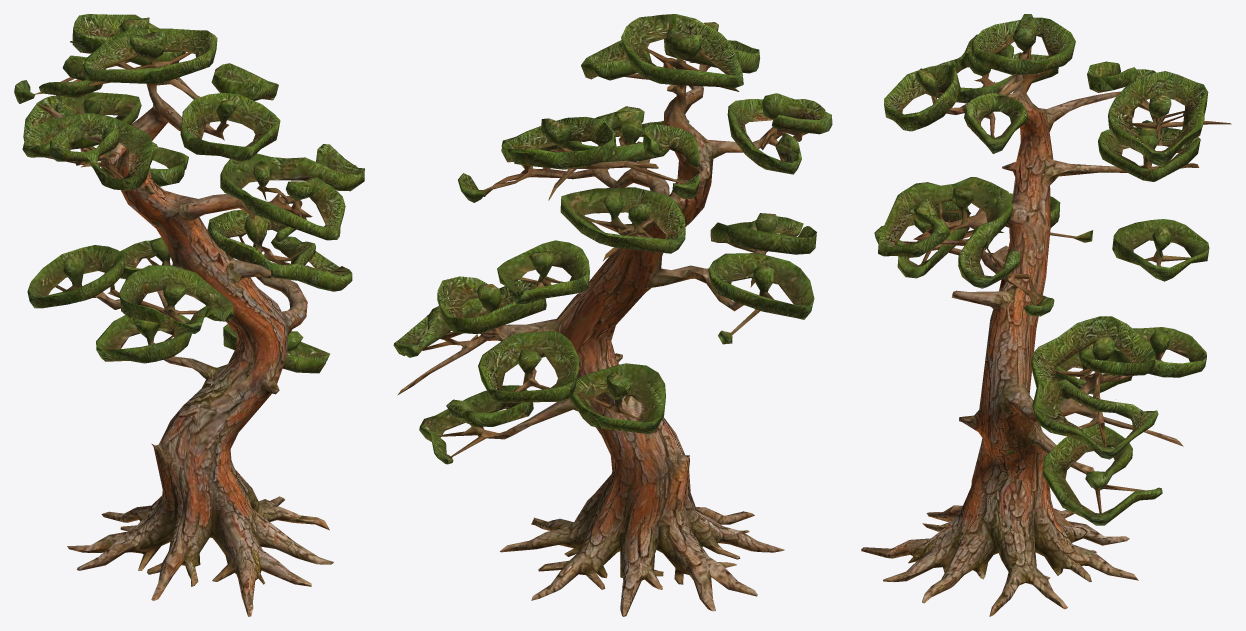
The model's file is pinheiro_vermelho.glb.
The picture shows the model from 3 angles, left to right: view 1: azimuth 30°, elevation 25°; view 2: azimuth 150°, elevation 25°; view 3: azimuth 270°, elevation 25°; orthographic projection. The views are drawn at different scales.
Parts seen in each view (by area): view 1: pinheiro_vermelho; view 2: pinheiro_vermelho; view 3: pinheiro_vermelho.
Part boxes in pixels (x1,y1,x2,y2): pinheiro_vermelho: (14, 14, 364, 616); pinheiro_vermelho: (393, 14, 832, 616); pinheiro_vermelho: (861, 14, 1231, 616).
Bounding box in the file's own units: 6.3 × 9 × 5.79.
1 material, 1 textured.
